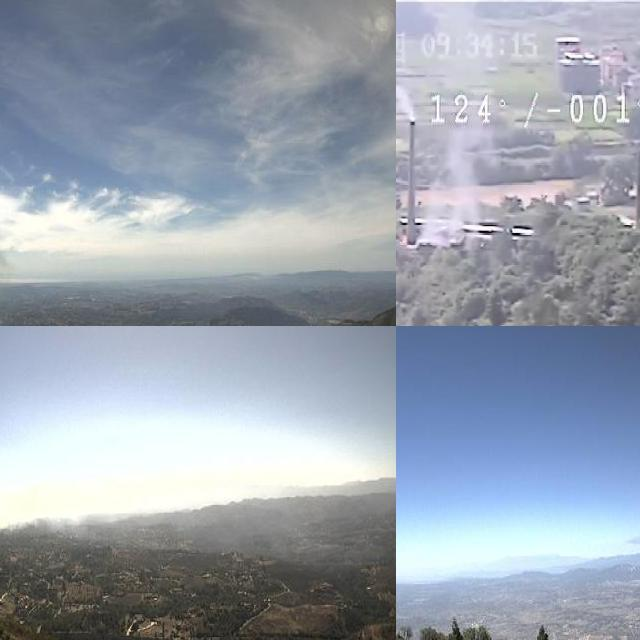smoke: (417, 4, 495, 246), (0, 497, 108, 541), (396, 4, 415, 122)
